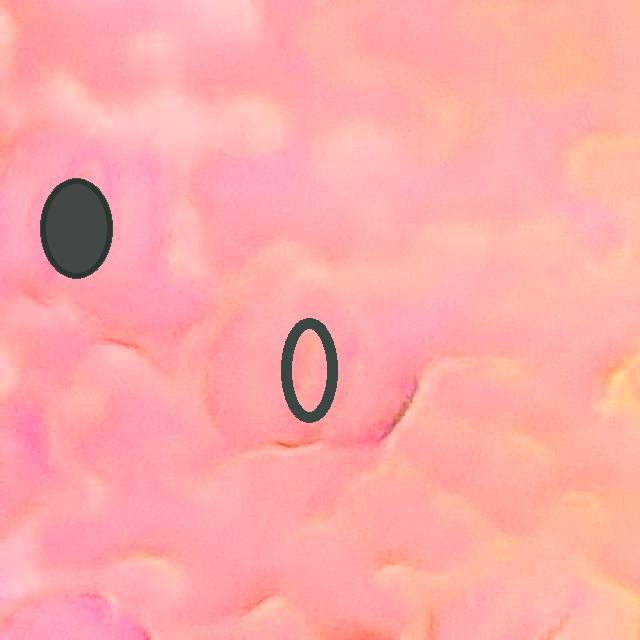open: (41, 178, 112, 278), (282, 317, 337, 422)
